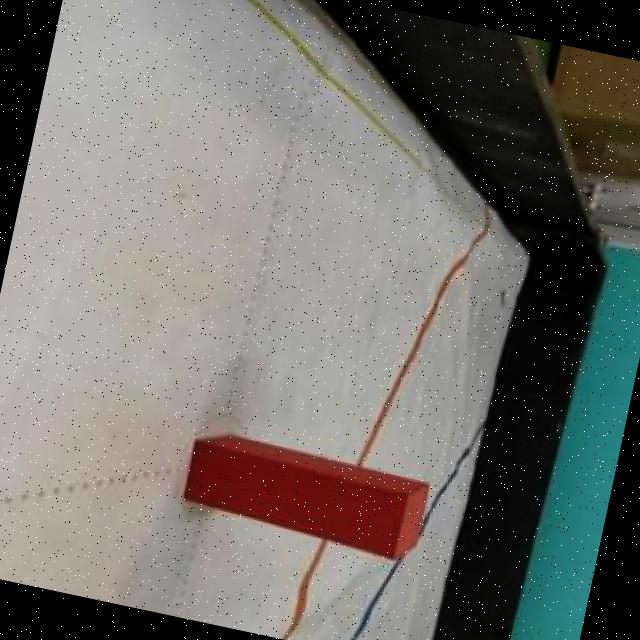redbox: (176, 424, 434, 567)
